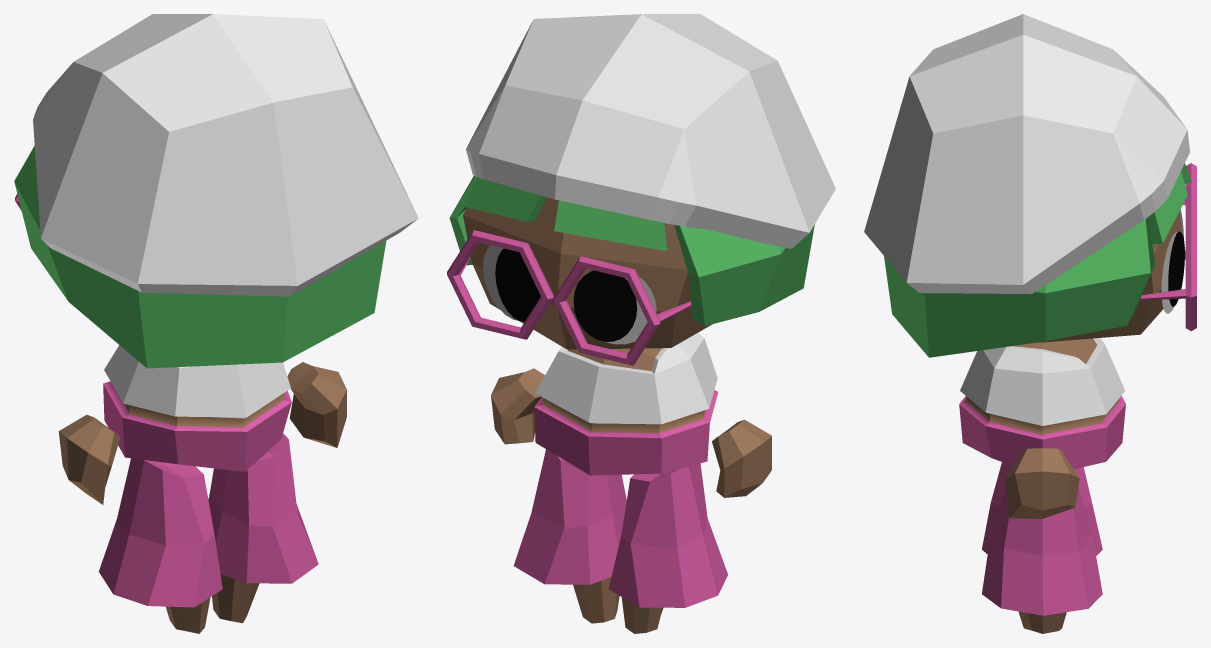
The model's file is Character_d.fbx.
The picture shows the model from 3 angles, left to right: view 1: azimuth 30°, elevation 25°; view 2: azimuth 150°, elevation 25°; view 3: azimuth 270°, elevation 25°; orthographic projection. The views are drawn at different scales.
Visible parts, largest first — view 1: Character_d_hat, Character_d_hair, Character_d_body, Character_d_leg_left, Character_d_leg_right, Character_d_hand_right, Character_d_hand_left; view 2: Character_d_hat, Character_d_body, Character_d_hair, Character_d_leg_left, Character_d_leg_right, Character_d_head, Character_d_glasses, Character_d_eyes_black, Character_d_hand_left, Character_d_hand_right, Character_d_eyes_white; view 3: Character_d_hat, Character_d_hair, Character_d_body, Character_d_leg_right, Character_d_hand_right, Character_d_head, Character_d_glasses, Character_d_leg_left, Character_d_eyes_black, Character_d_eyes_white.
Boxes of the visible parts, box(x1,y1,x2,y2) form: Character_d_hat: box(33, 14, 418, 296); Character_d_hair: box(14, 146, 386, 368); Character_d_body: box(103, 345, 291, 471); Character_d_leg_left: box(98, 458, 222, 633); Character_d_leg_right: box(208, 433, 318, 623); Character_d_hand_right: box(287, 362, 346, 447); Character_d_hand_left: box(58, 414, 120, 504); Character_d_hat: box(466, 14, 835, 248); Character_d_body: box(534, 333, 718, 475); Character_d_hair: box(449, 176, 814, 325); Character_d_leg_left: box(608, 463, 727, 633); Character_d_leg_right: box(513, 449, 626, 623); Character_d_head: box(463, 197, 712, 349); Character_d_glasses: box(447, 230, 691, 365); Character_d_eyes_black: box(495, 248, 637, 341); Character_d_hand_left: box(712, 419, 771, 497); Character_d_hand_right: box(491, 368, 544, 444); Character_d_eyes_white: box(483, 245, 656, 344); Character_d_hat: box(864, 14, 1189, 293); Character_d_hair: box(884, 163, 1191, 357); Character_d_body: box(959, 338, 1125, 468); Character_d_leg_right: box(982, 487, 1102, 633); Character_d_hand_right: box(1005, 448, 1079, 518); Character_d_head: box(1040, 212, 1185, 342); Character_d_glasses: box(1140, 163, 1196, 331); Character_d_leg_left: box(982, 462, 1102, 555); Character_d_eyes_black: box(1168, 231, 1184, 306); Character_d_eyes_white: box(1161, 209, 1183, 313).
Size of the model in its own units: 174 by 299 by 155.
